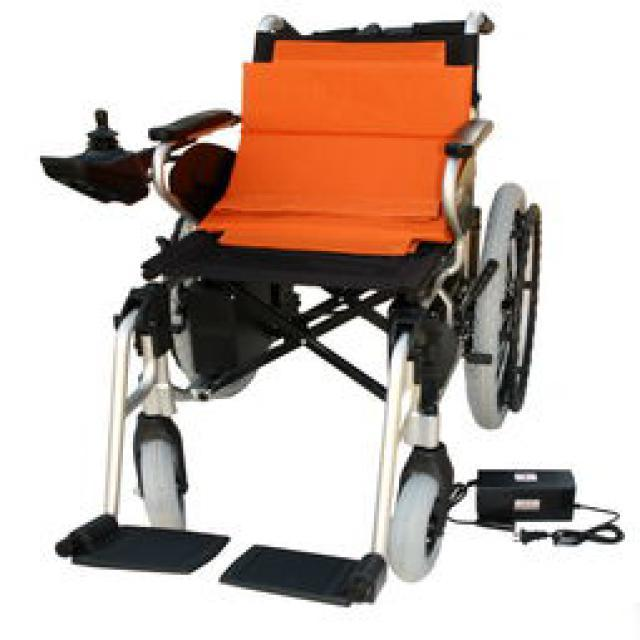wheelchair: (4, 0, 623, 598)
